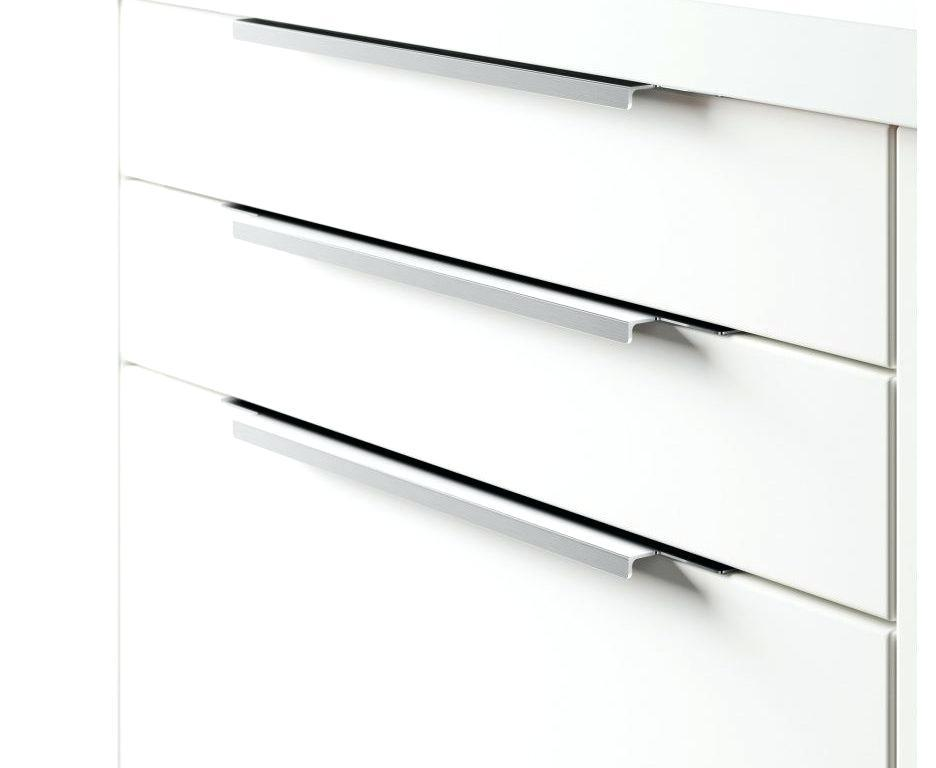cabinet_door: (130, 188, 936, 594), (130, 370, 900, 768), (122, 22, 891, 335)
handle: (216, 410, 661, 582), (222, 200, 660, 340), (232, 12, 666, 131)
